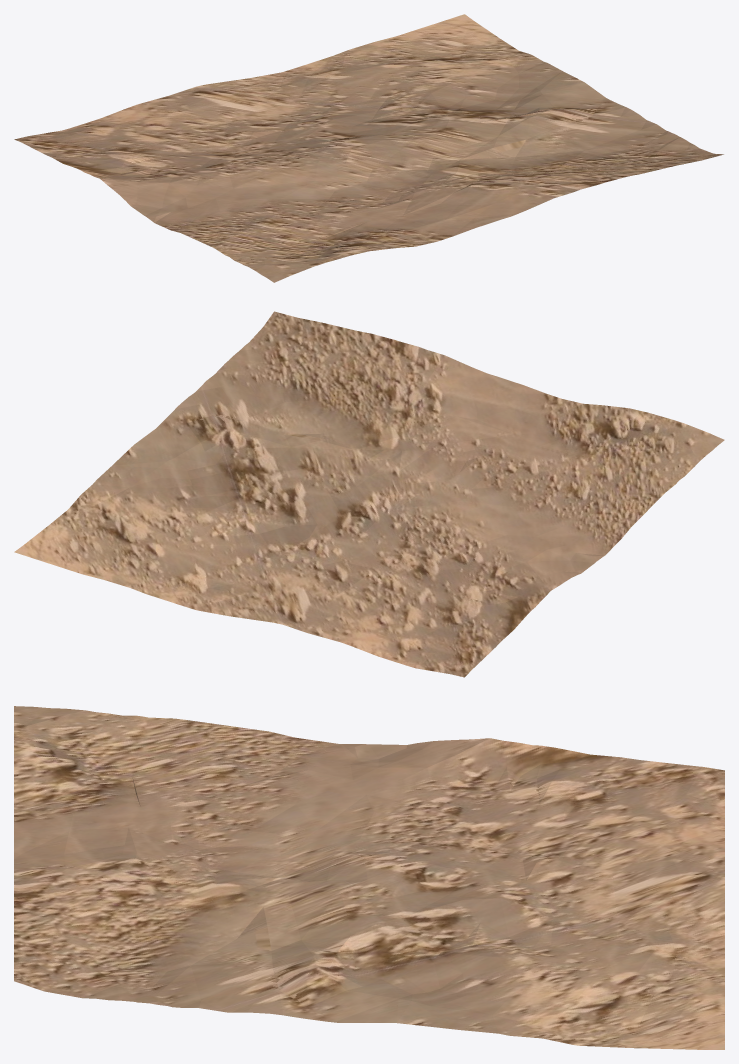
The picture shows the model from 3 angles, top to bottom: view 1: azimuth 30°, elevation 25°; view 2: azimuth 150°, elevation 25°; view 3: azimuth 270°, elevation 25°; orthographic projection. The views are drawn at different scales.
Size of the model in its own units: 1.04 by 0.1548 by 1.04.
3 materials, 3 textured.
